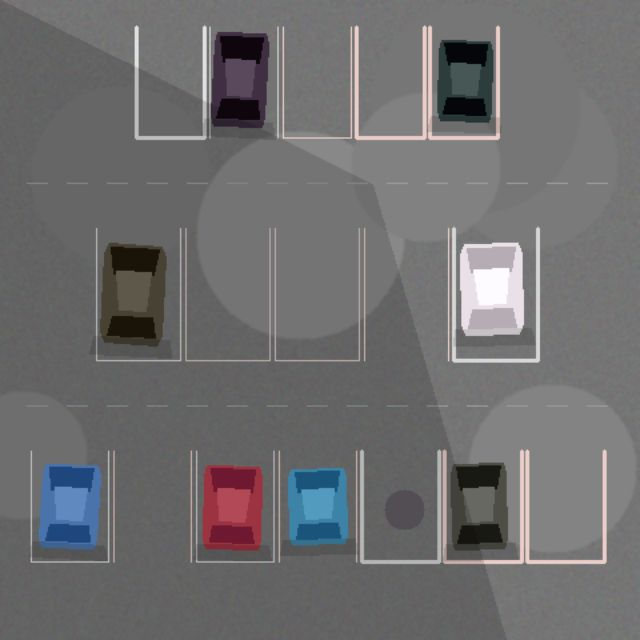space-empty: (185, 228, 269, 360), (275, 228, 359, 360), (364, 228, 448, 360), (113, 451, 191, 561), (361, 451, 439, 561), (527, 451, 604, 561), (136, 27, 204, 137), (283, 27, 351, 137), (356, 27, 424, 137)
space-occupied: (96, 228, 180, 360), (453, 228, 537, 360), (31, 451, 108, 561), (196, 451, 273, 561), (279, 451, 356, 561), (444, 451, 521, 561), (209, 27, 277, 137), (429, 27, 497, 137)
